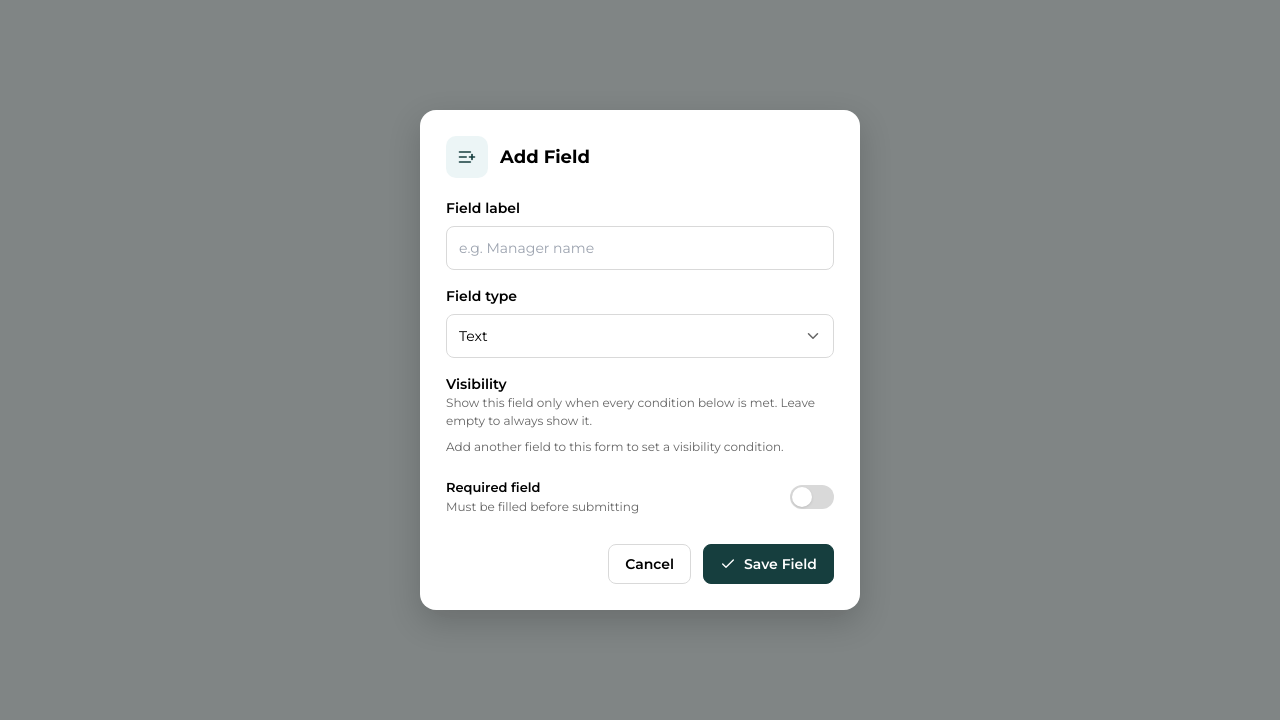
it: blocks saving with an empty label
The image size is (1280, 720).
Click the button "Save Field" at (768, 564), box [703,544,834,584]
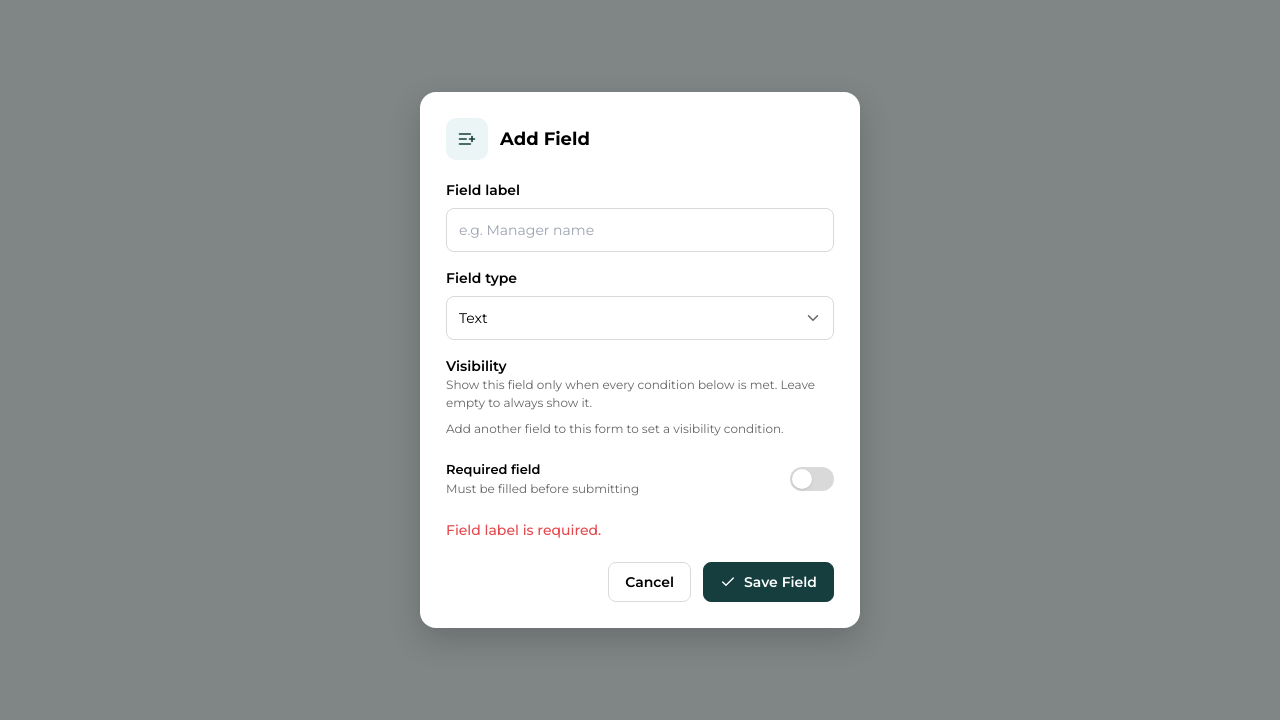
Check: the text "Field label is required." is shown, box [446,521,601,539]
